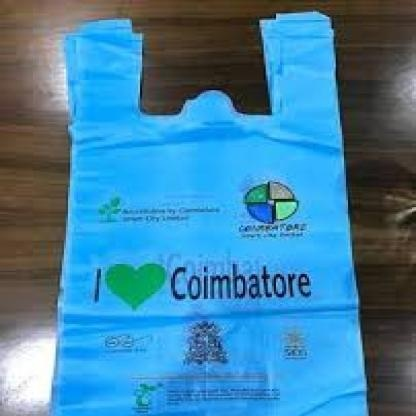trash: (53, 12, 367, 415)
